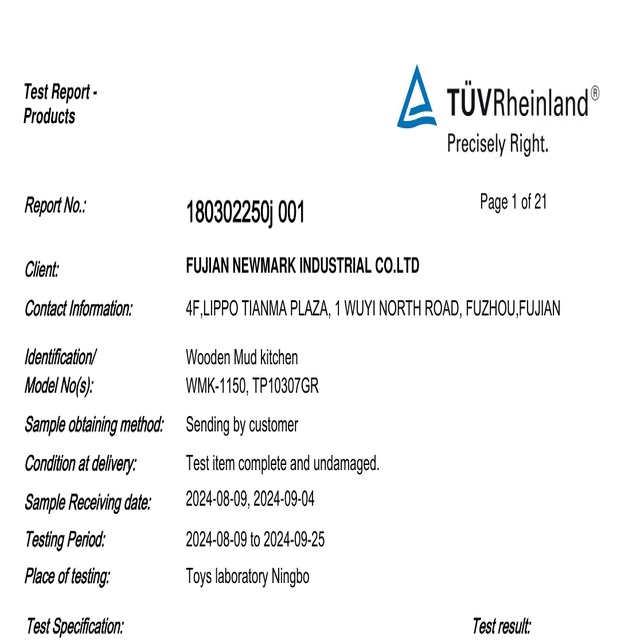tuv_rheinland: (396, 62, 603, 130)
